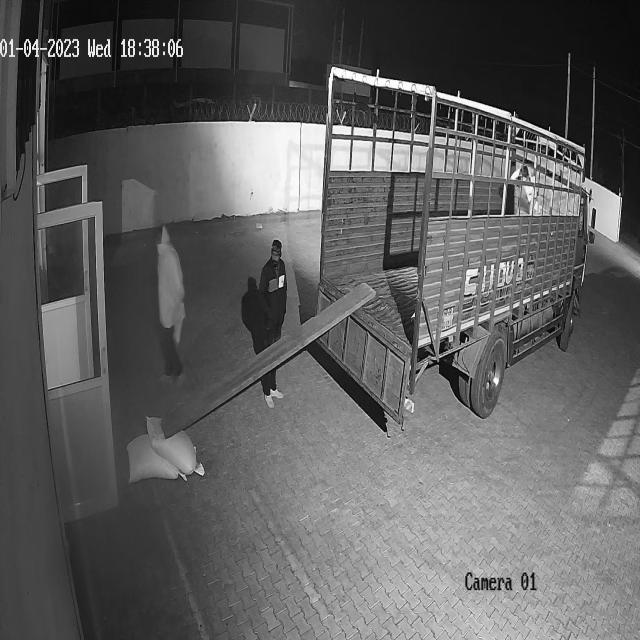sack: (145, 413, 205, 477), (126, 434, 187, 482)
